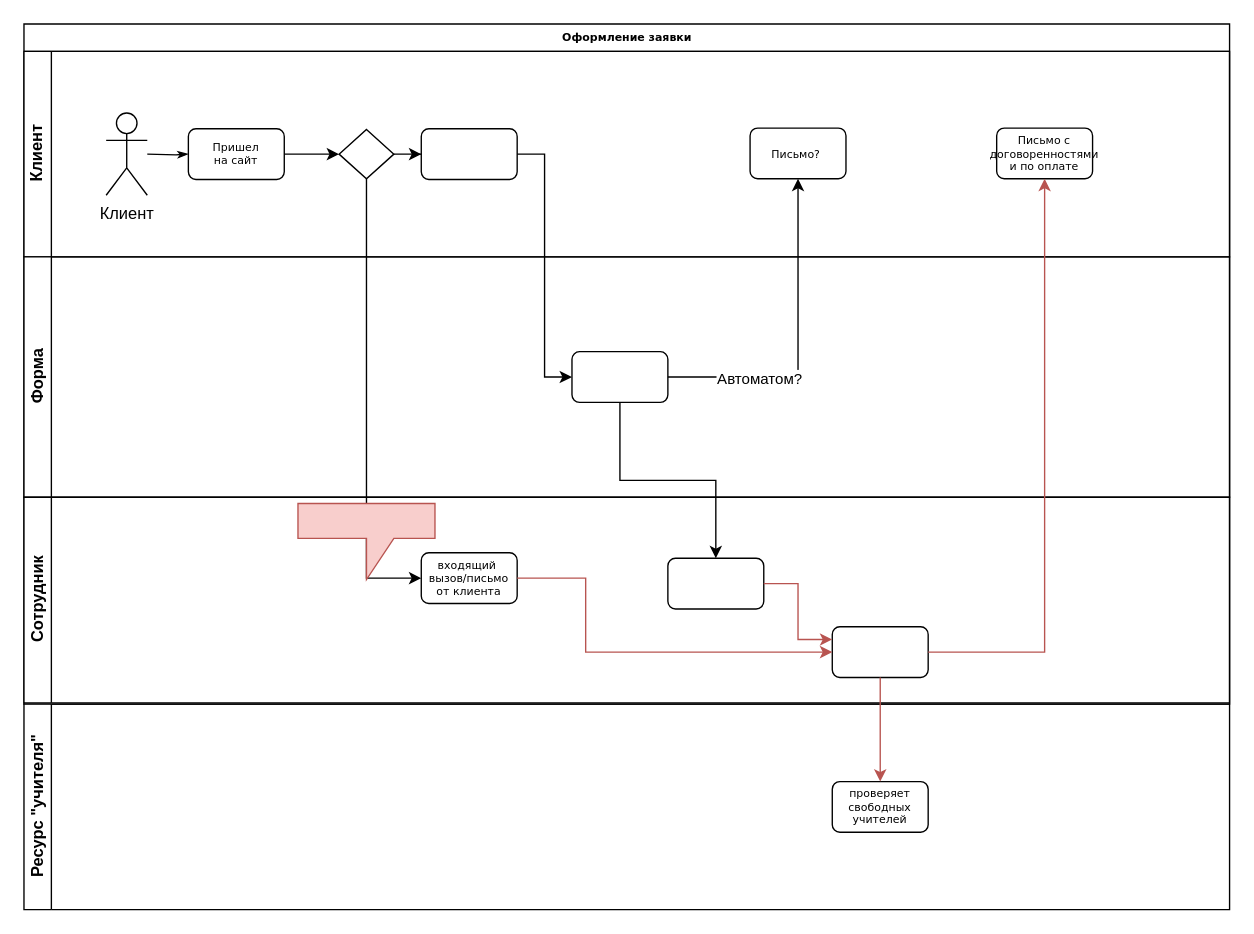
The diagram is 1254 pixels wide and 934 high, and some of its shapes have lost their labels. The centre of each missing label's shape, as x and y in pixels:
OR: [366,153]
Заявка появилась в форме (gsheet) + telegram: [619,376]
Нажал в форме "записаться": [468,153]
Падает уведомление сотруднику: [715,583]
Под вопросом: [366,541]
Подтверждает заявку, выбирает время: [879,651]
